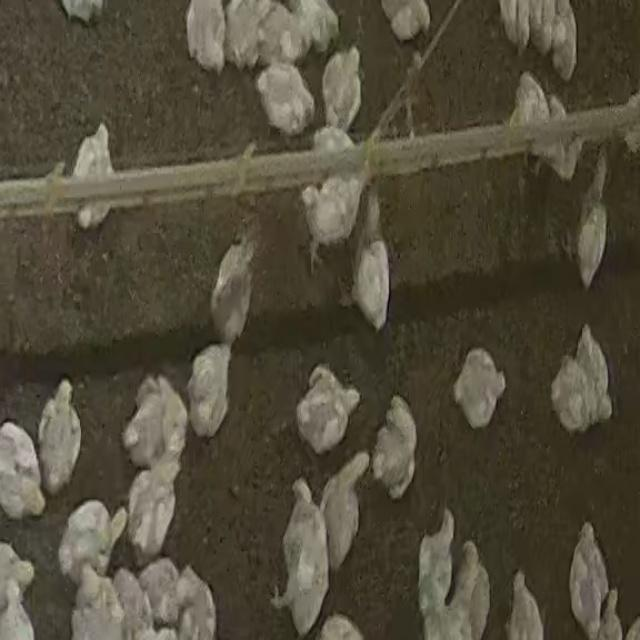chicken: (275, 479, 329, 633), (348, 187, 398, 333), (300, 164, 364, 268), (320, 450, 374, 571), (125, 373, 189, 471), (209, 222, 259, 344), (295, 363, 359, 455), (126, 458, 182, 561), (572, 151, 611, 293), (60, 498, 127, 578), (38, 379, 84, 495), (67, 123, 114, 234), (186, 342, 236, 440), (372, 396, 418, 500), (0, 422, 47, 520), (567, 520, 606, 635), (451, 349, 506, 429), (414, 509, 455, 616), (574, 325, 612, 432), (258, 63, 314, 135), (454, 539, 489, 640), (320, 46, 362, 130), (217, 0, 269, 67), (553, 357, 596, 433), (502, 571, 548, 640), (543, 95, 579, 181), (186, 1, 227, 73), (258, 3, 309, 60), (512, 73, 549, 150), (0, 539, 37, 601), (380, 0, 434, 41), (296, 0, 343, 45), (0, 581, 33, 640), (555, 0, 578, 82), (500, 0, 533, 50), (534, 0, 559, 54)
